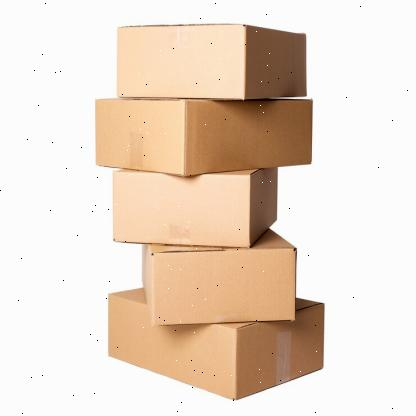box: (110, 294, 237, 402), (151, 252, 297, 326), (114, 171, 249, 248), (182, 98, 314, 176), (116, 25, 246, 99)
